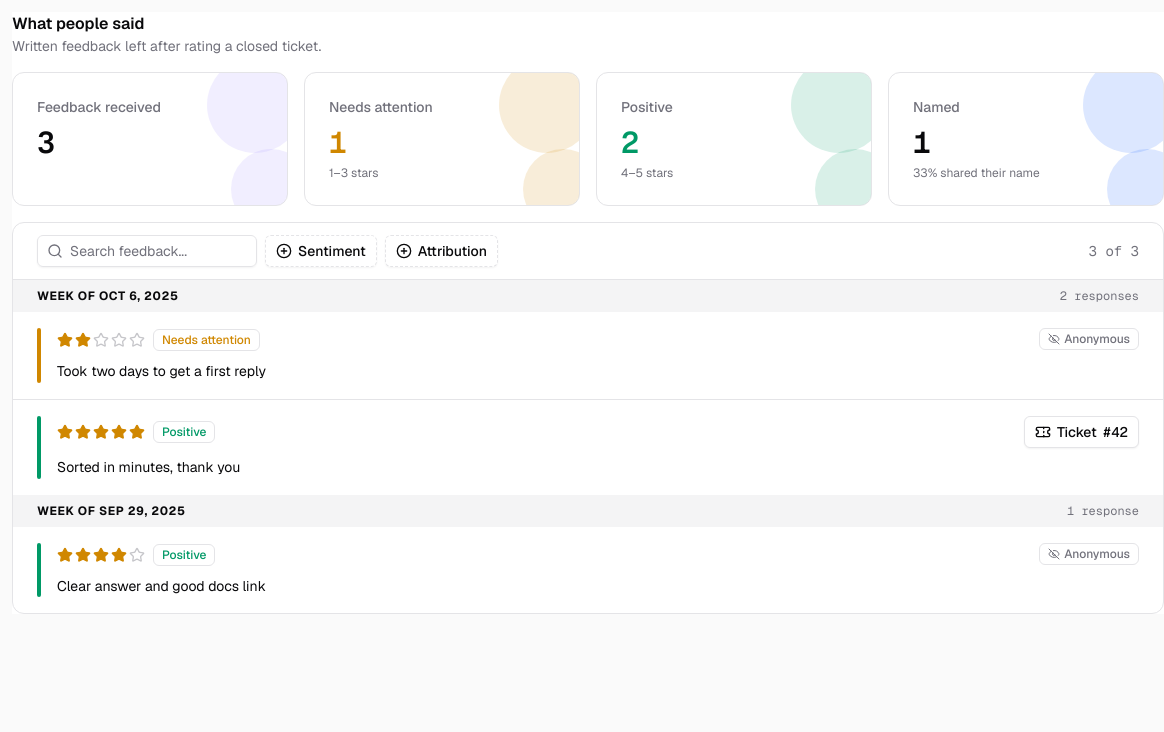
RatingFeedback › filters by search text
The width and height of the screenshot is (1164, 732).
Type "docs" into the field labelled "Search feedback" at (147, 251), box [37,235,257,267]
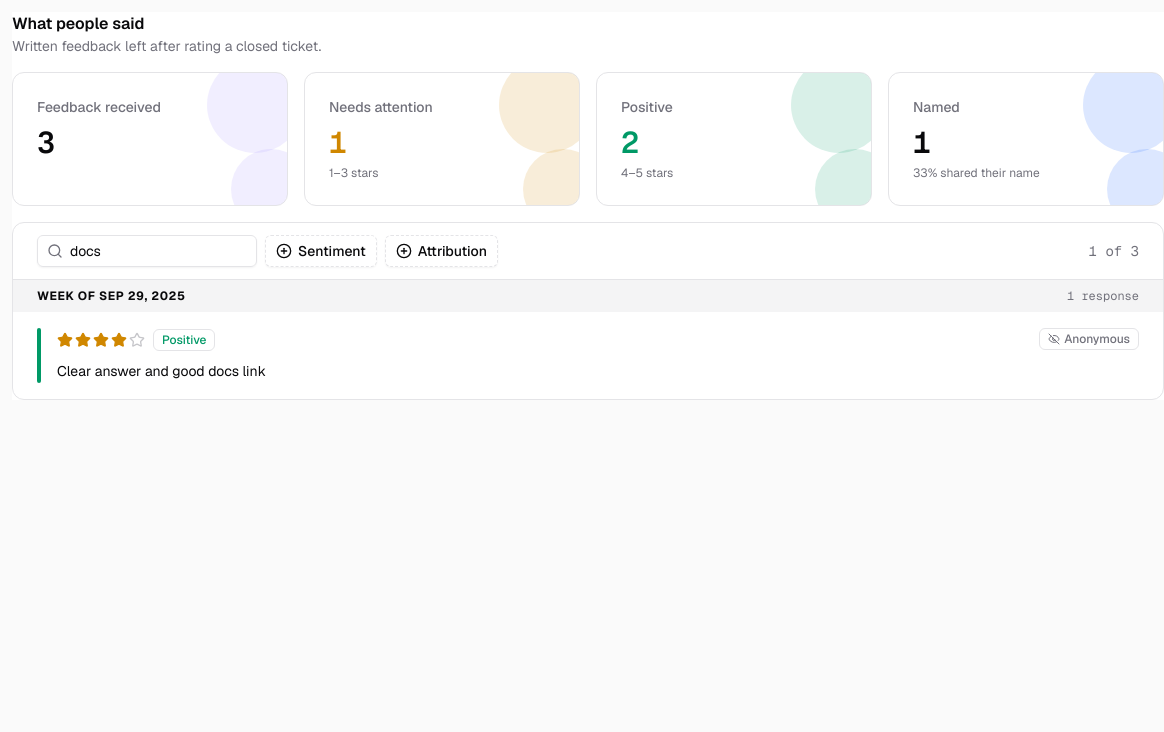
Check: the text "Clear answer and good docs link" is shown, box [57,362,266,380]
Check: the text "Sorted in minutes, thank you" is gone
Check: the text "1 of 3" is shown, box [1089,241,1139,261]
